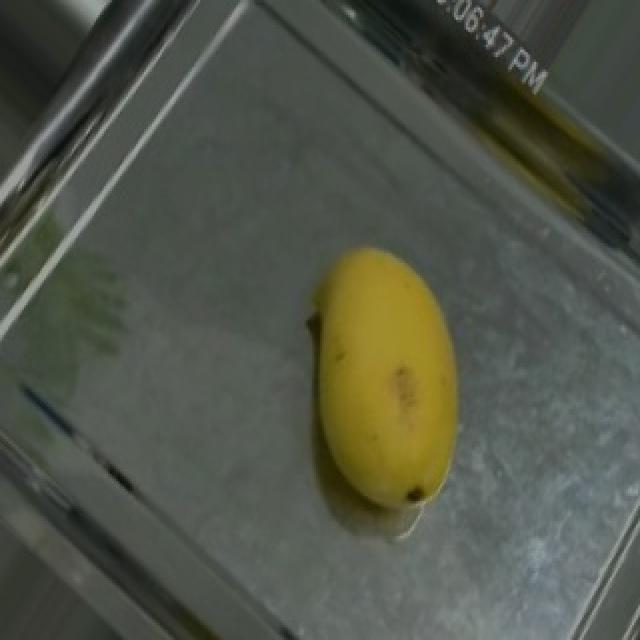fruit: (254, 196, 536, 556)
